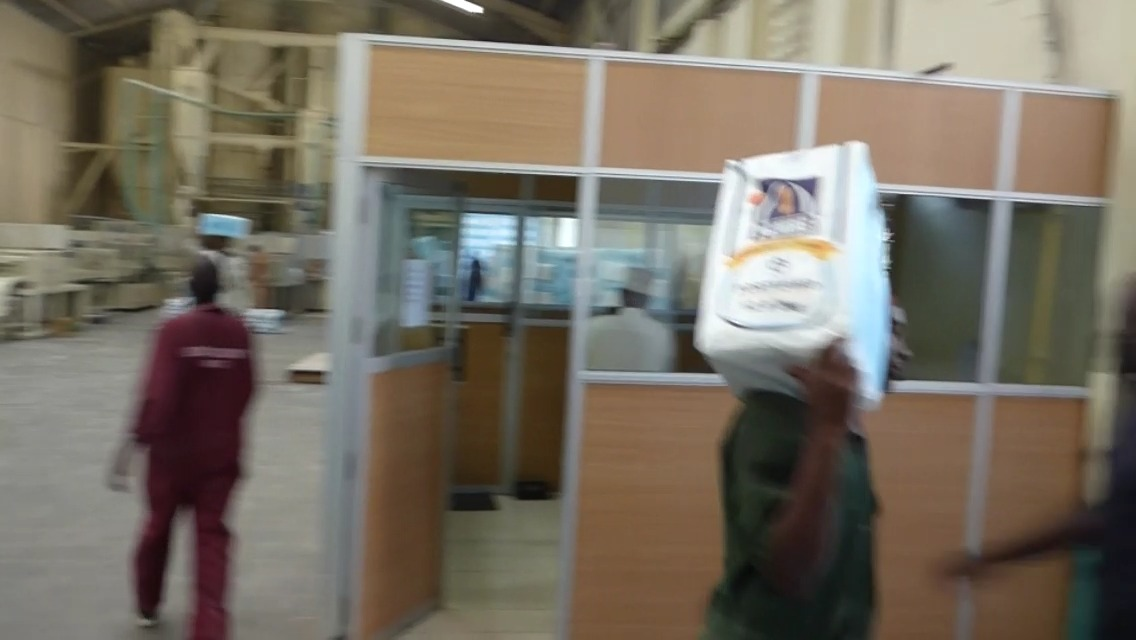wheat_flour_blue_label: (696, 142, 888, 414)
